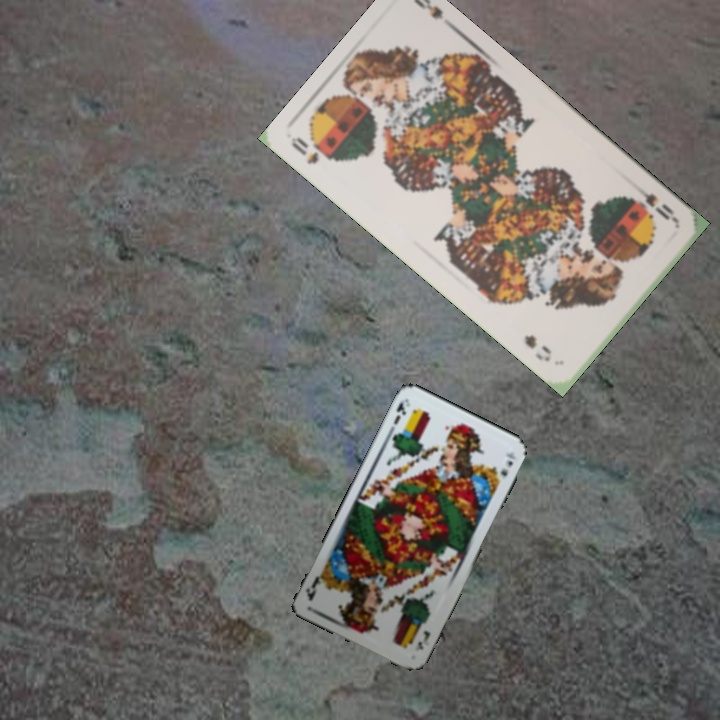EK: (389, 395, 409, 428), (411, 626, 433, 654)
SO: (630, 180, 679, 224), (287, 133, 322, 167)
